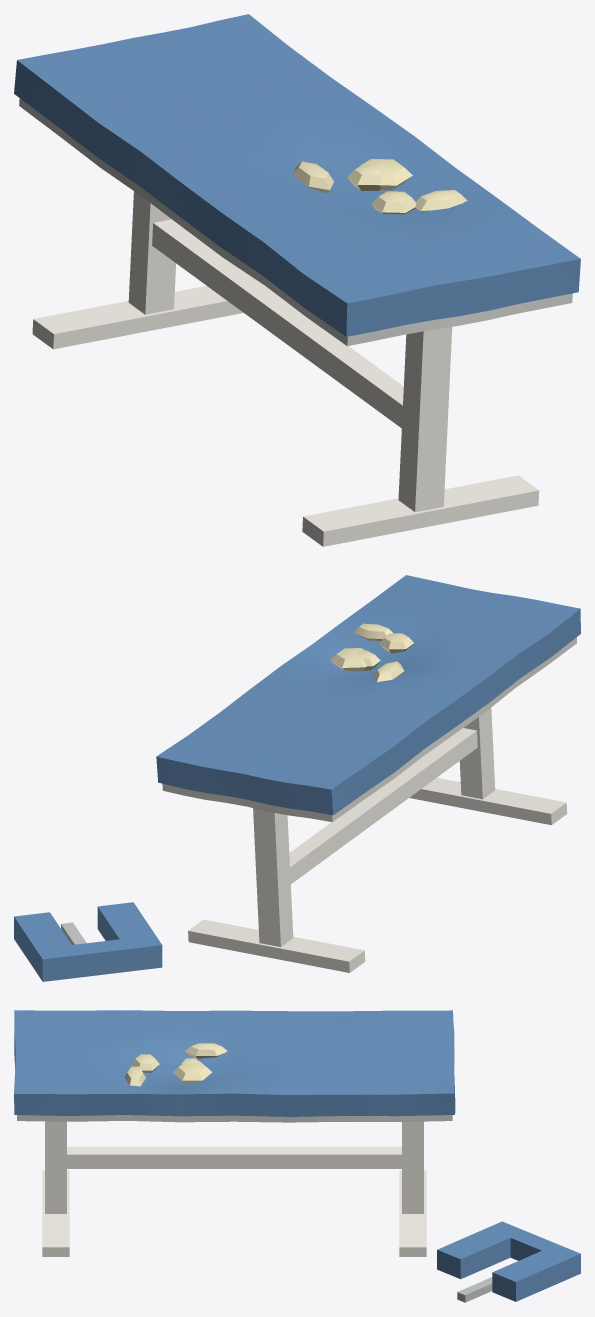
The model's file is treatment_table_broken.fbx.
The picture shows the model from 3 angles, top to bottom: view 1: azimuth 30°, elevation 25°; view 2: azimuth 150°, elevation 25°; view 3: azimuth 270°, elevation 25°; orthographic projection. The views are drawn at different scales.
Parts seen in each view (by area): view 1: treatment_table_broken; view 2: treatment_table_broken, treatment_table_broken_debris; view 3: treatment_table_broken, treatment_table_broken_debris.
Boxes of the visible parts, x1,y1,x2,y2 form: treatment_table_broken: (14, 14, 580, 546); treatment_table_broken: (156, 575, 580, 972); treatment_table_broken_debris: (14, 902, 162, 981); treatment_table_broken: (14, 1010, 455, 1256); treatment_table_broken_debris: (437, 1221, 580, 1302).
Size of the model in its own units: 106 by 72.49 by 206.
